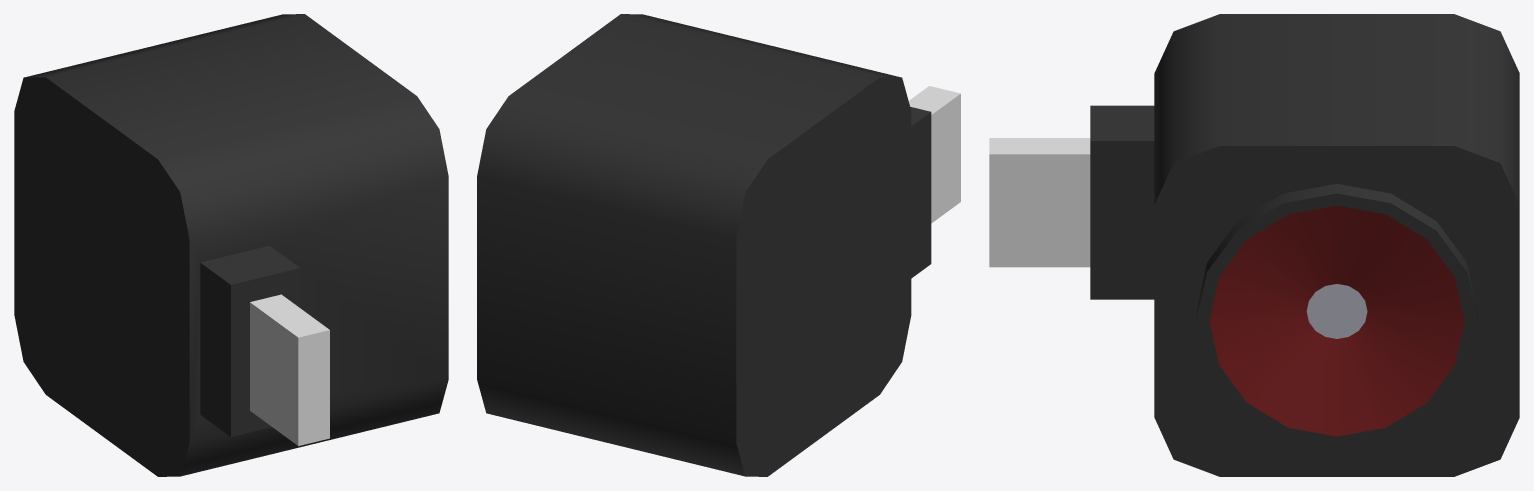
The model's file is seek_thermal_nano.glb.
3 renders of one model, left to right at view 1: azimuth 30°, elevation 25°; view 2: azimuth 150°, elevation 25°; view 3: azimuth 270°, elevation 25°, orthographic. The views are drawn at different scales.
Visible parts, largest first — view 1: seek_nano; view 2: seek_nano; view 3: seek_nano.
Boxes of the visible parts, bbox=[...] form: seek_nano: bbox=[14, 14, 448, 476]; seek_nano: bbox=[477, 14, 960, 476]; seek_nano: bbox=[989, 14, 1519, 476].
Size of the model in its own units: 0.022 by 0.024 by 0.0348.
